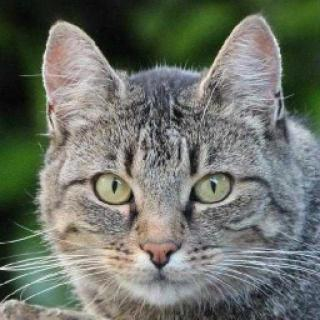cat: (31, 13, 293, 301)
nose: (132, 228, 183, 272)
